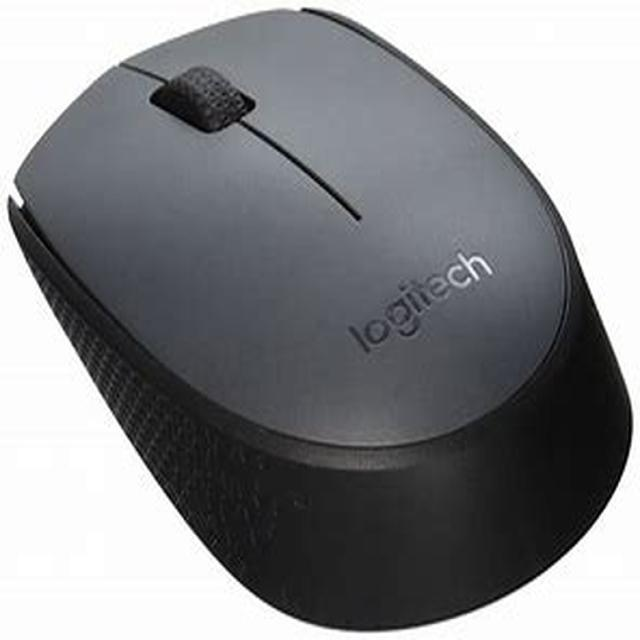mouse: (9, 3, 626, 638)
